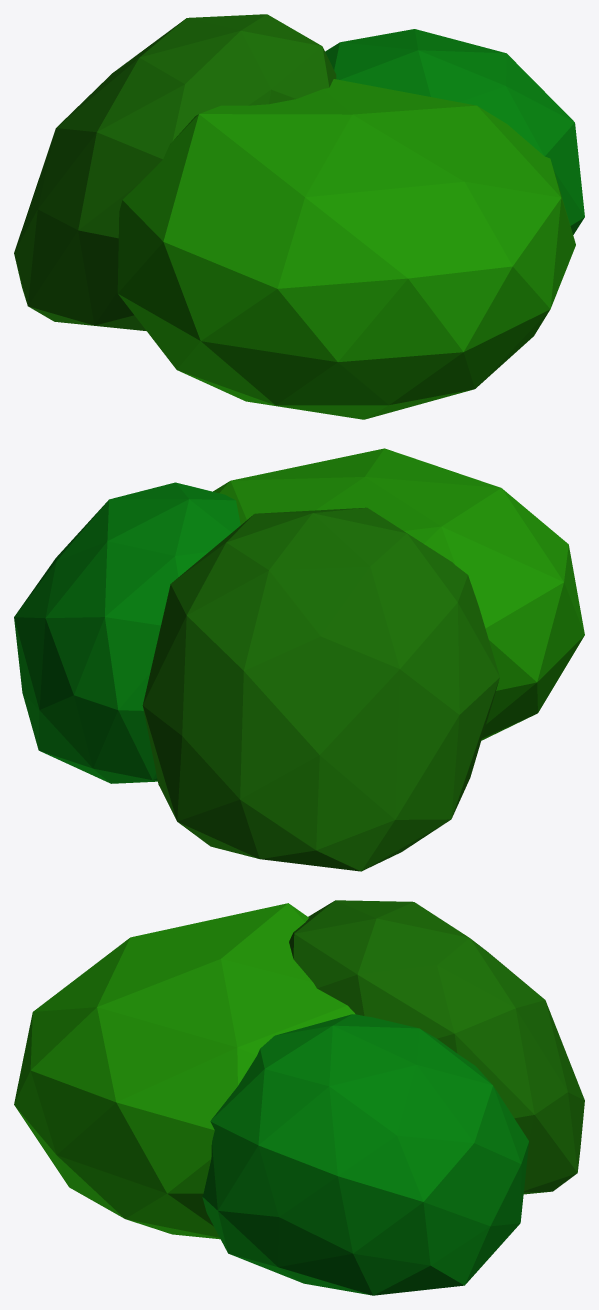
The model's file is bush.glb.
3 views of the same model, one above another, from view 1: azimuth 30°, elevation 25°; view 2: azimuth 150°, elevation 25°; view 3: azimuth 270°, elevation 25° (orthographic). The views are drawn at different scales.
Parts seen in each view (by area): view 1: Icosphere.002; view 2: Icosphere.002; view 3: Icosphere.002.
Boxes of the visible parts, <box> form: Icosphere.002: <box>14,14,584,419</box>; Icosphere.002: <box>14,448,584,871</box>; Icosphere.002: <box>14,900,584,1295</box>.
Size of the model in its own units: 4.11 by 2.45 by 4.61.
